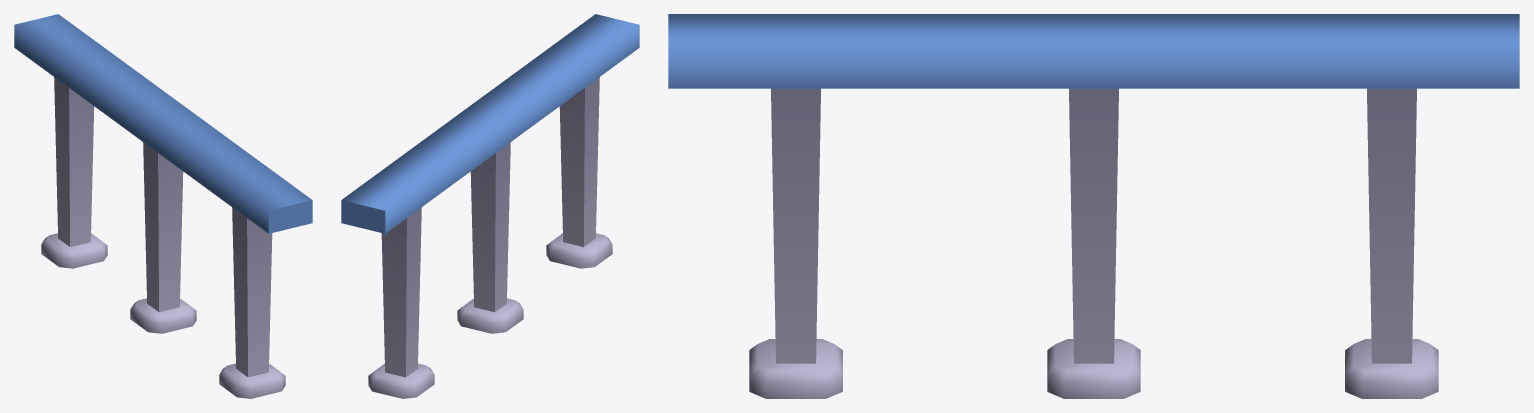
The model's file is rail-high.fbx.
3 renders of one model, left to right at view 1: azimuth 30°, elevation 25°; view 2: azimuth 150°, elevation 25°; view 3: azimuth 270°, elevation 25°, orthographic. The views are drawn at different scales.
Parts seen in each view (by area): view 1: rail-high; view 2: rail-high; view 3: rail-high.
Part boxes in pixels (bbox=[...]): rail-high: bbox=[14, 14, 312, 398]; rail-high: bbox=[341, 14, 639, 398]; rail-high: bbox=[668, 14, 1519, 398].
Bounding box in the file's own units: 11 × 45 × 100.
1 material, 1 textured.
